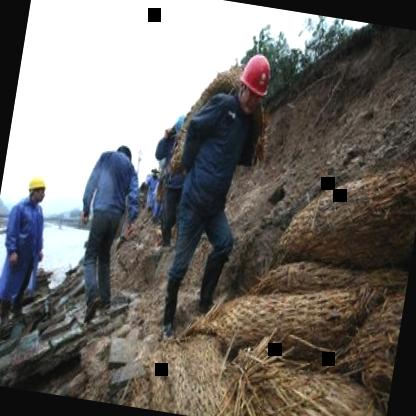helmet: (230, 47, 277, 118), (24, 175, 48, 209)
